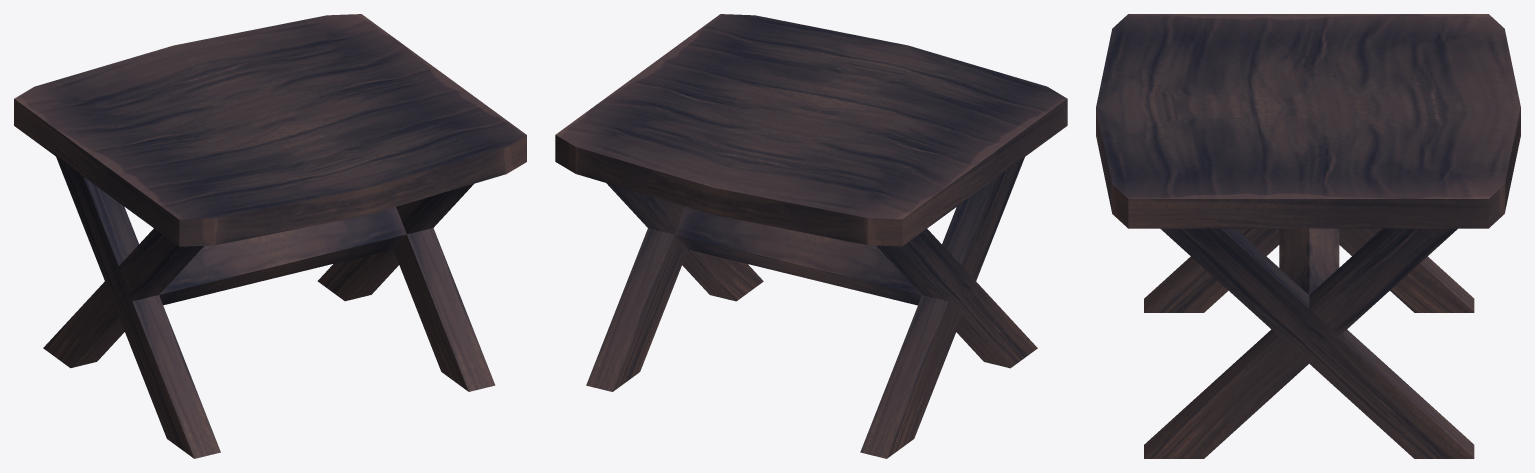
The model's file is Table_B_1x1.fbx.
3 renders of one model, left to right at view 1: azimuth 30°, elevation 25°; view 2: azimuth 150°, elevation 25°; view 3: azimuth 270°, elevation 25°, orthographic. The views are drawn at different scales.
Parts seen in each view (by area): view 1: Table_B_1x1; view 2: Table_B_1x1; view 3: Table_B_1x1.
Part boxes in pixels (x1,y1,x2,y2): Table_B_1x1: (14, 14, 526, 458); Table_B_1x1: (555, 14, 1067, 458); Table_B_1x1: (1096, 14, 1520, 458).
Bounding box in the file's own units: 0.3133 × 0.2154 × 0.304.
